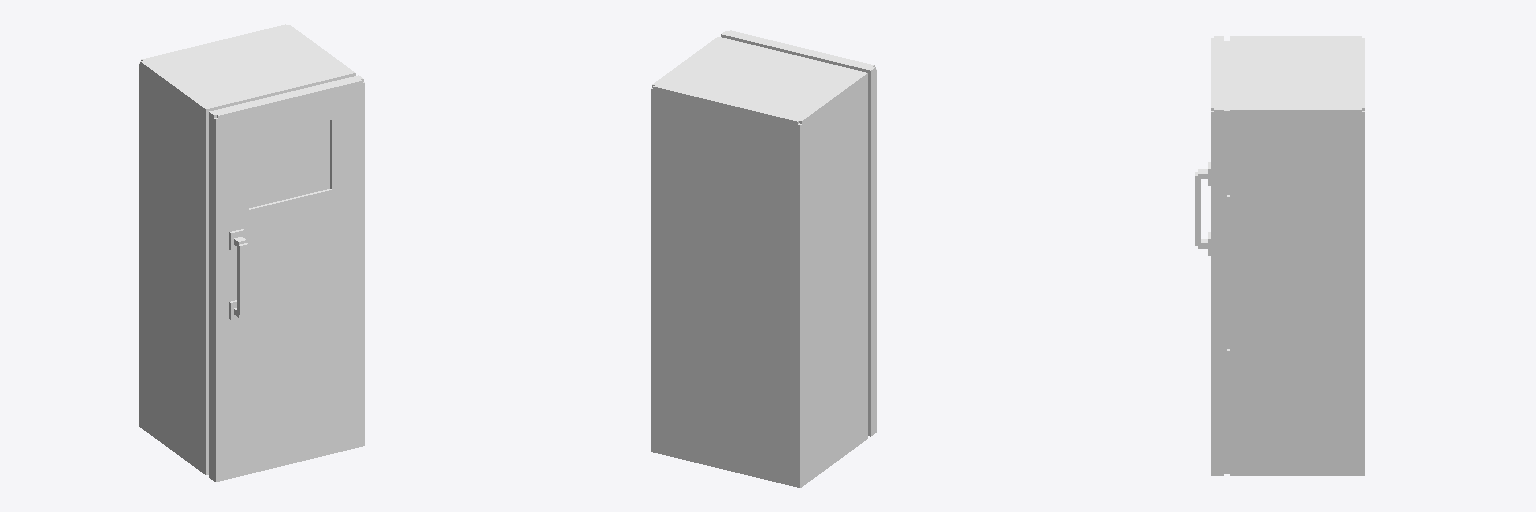
Rendered from bloodshelf.obj.
The picture shows the model from 3 angles: view 1: azimuth 30°, elevation 25°; view 2: azimuth 150°, elevation 25°; view 3: azimuth 270°, elevation 25°; orthographic projection.
Visible parts, largest first — view 1: bloodshelf; view 2: bloodshelf; view 3: bloodshelf.
Boxes of the visible parts, x1=… form: bloodshelf: x1=139, y1=24, x2=364, y2=481; bloodshelf: x1=651, y1=30, x2=876, y2=487; bloodshelf: x1=1195, y1=36, x2=1364, y2=475.
Bounding box in the file's own units: 54 × 126 × 53.